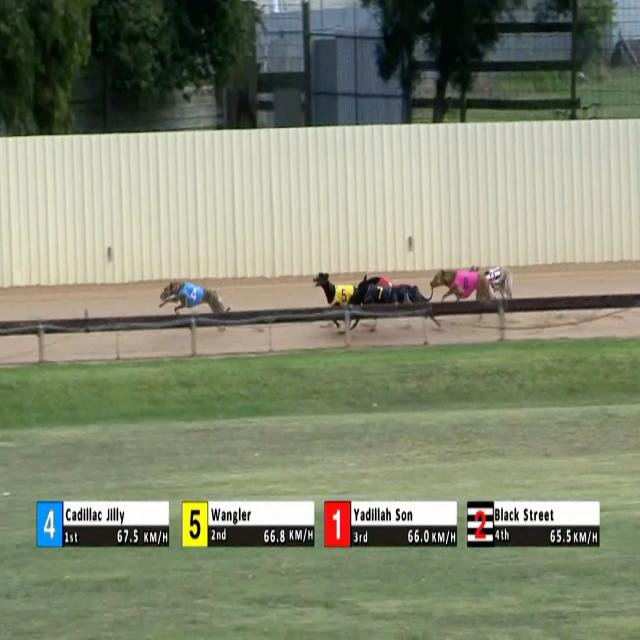dog_eight: (458, 273, 474, 297)
dog_five: (335, 285, 353, 307)
dog_four: (180, 282, 203, 306)
dog_one: (381, 276, 405, 290)
dog_seven: (371, 284, 386, 302)
dog_two: (484, 267, 502, 295)
rail: (0, 291, 640, 338)
